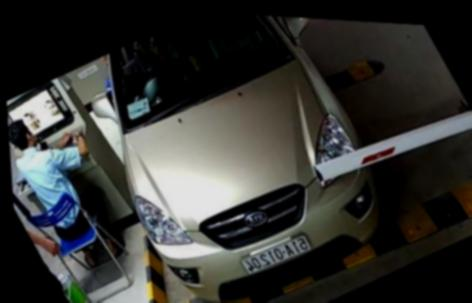License_Plate: (234, 230, 316, 280)
